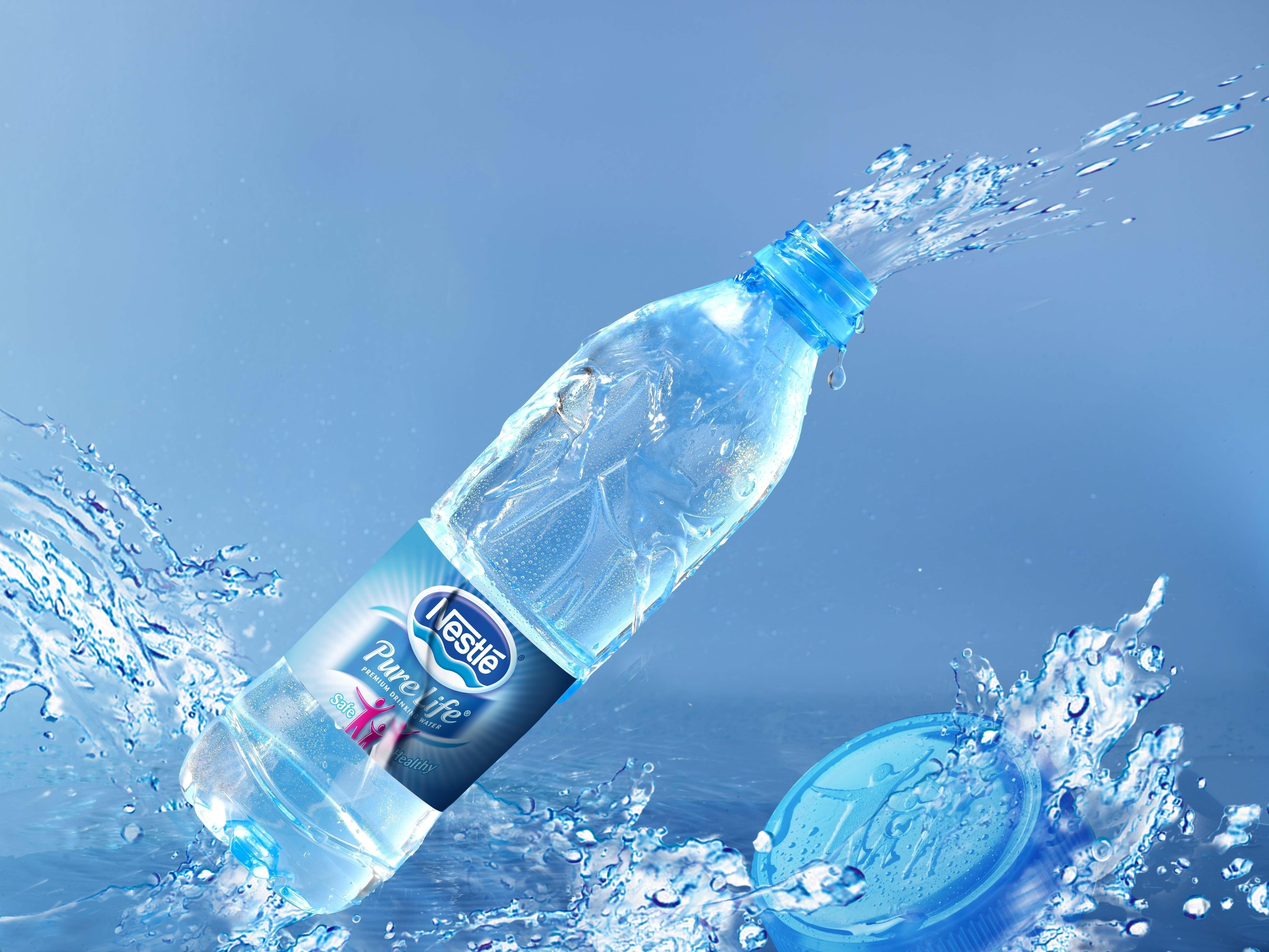bottle-plastic: (182, 214, 883, 915)
